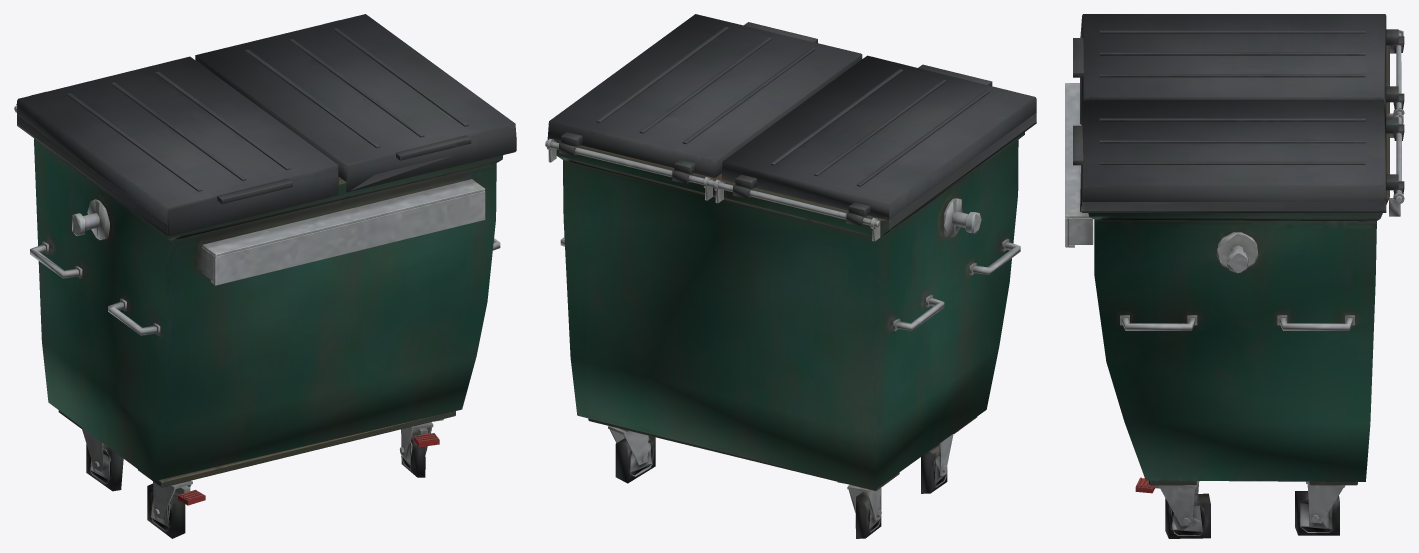
The model's file is dumpster.glb.
The picture shows the model from 3 angles, left to right: view 1: azimuth 30°, elevation 25°; view 2: azimuth 150°, elevation 25°; view 3: azimuth 270°, elevation 25°; orthographic projection. The views are drawn at different scales.
Visible parts, largest first — view 1: dumpster_body; view 2: dumpster_body; view 3: dumpster_body.
Boxes of the visible parts, <box> form: dumpster_body: <box>14,14,516,538</box>; dumpster_body: <box>545,14,1036,538</box>; dumpster_body: <box>1065,14,1404,538</box>.
Size of the model in its own units: 1.38 by 1.31 by 1.05.
Materials: 1 (1 with a texture image).
